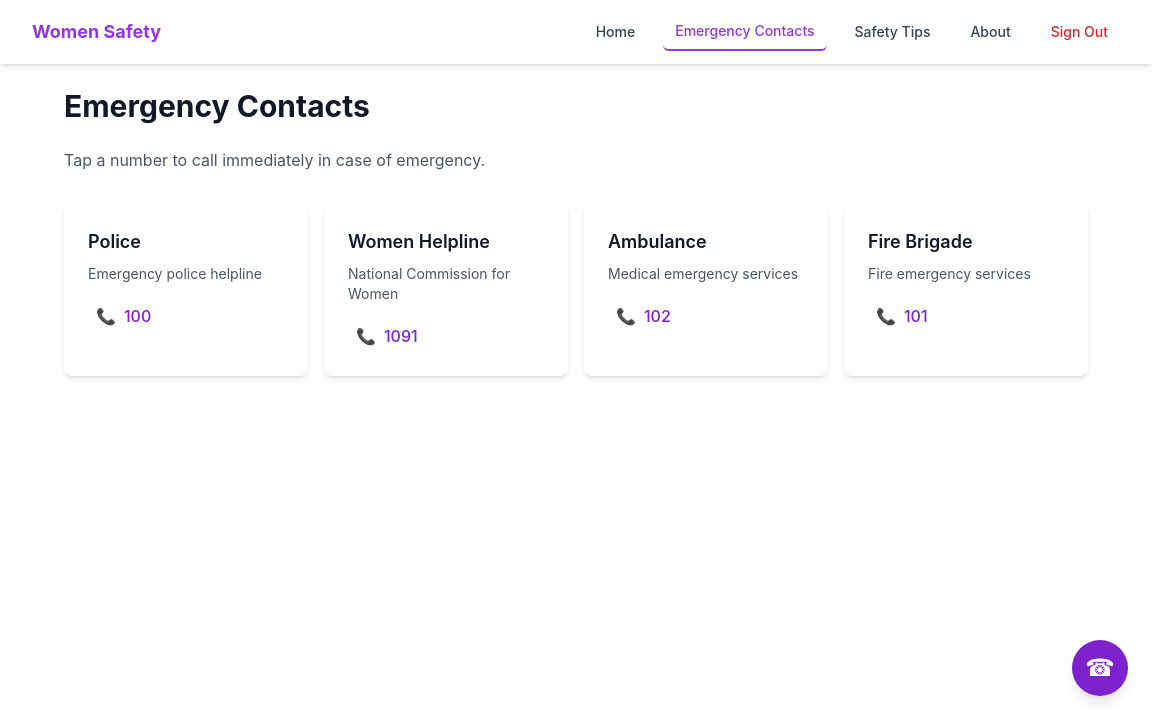
Test case: AppRoutes Integration › navigation between pages without full reload › should navigate back to Home from another page
Check: the heading "Emergency Contacts" is shown, box [64,88,370,124]
Click the link "Home" at (615,32), box [596,23,635,40]
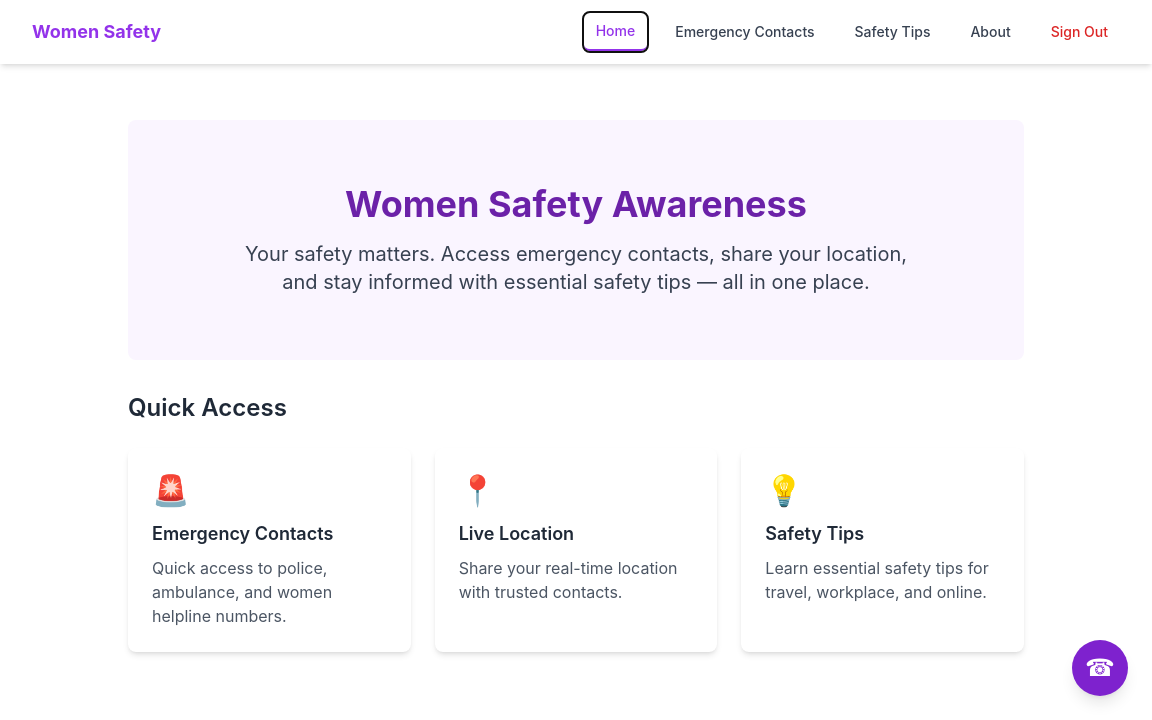
Check: the heading "Women Safety Awareness" is shown, box [345,182,807,226]
